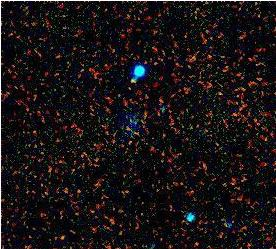star: (118, 68, 148, 98)
